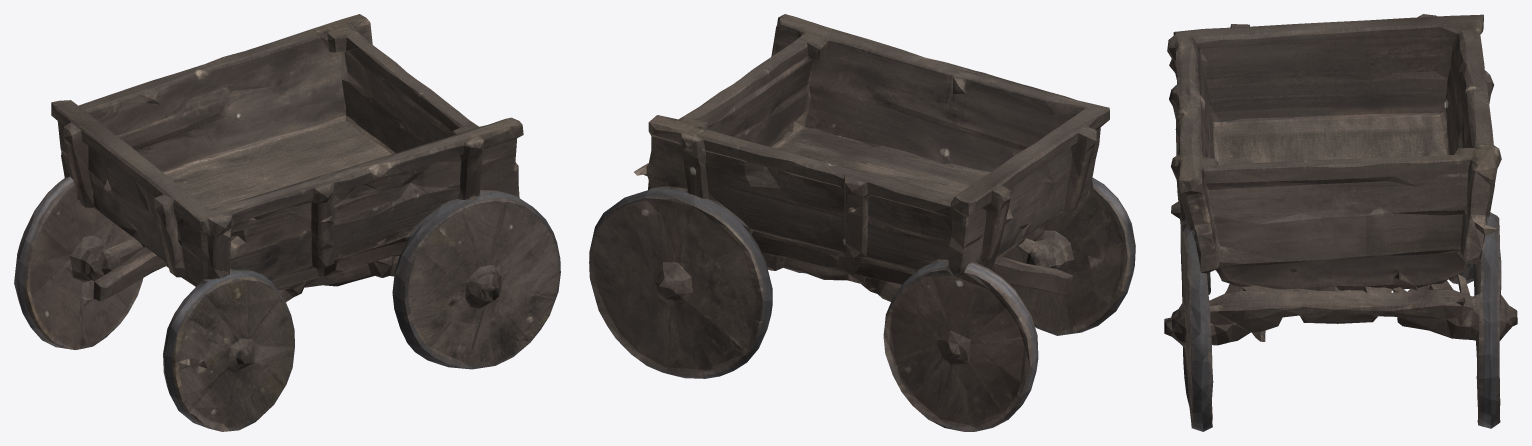
The model's file is cart.fbx.
The picture shows the model from 3 angles, left to right: view 1: azimuth 30°, elevation 25°; view 2: azimuth 150°, elevation 25°; view 3: azimuth 270°, elevation 25°; orthographic projection. The views are drawn at different scales.
Parts seen in each view (by area): view 1: Mesh_0; view 2: Mesh_0; view 3: Mesh_0.
Boxes of the visible parts, x1,y1,x2,y2 form: Mesh_0: (14, 14, 560, 431); Mesh_0: (589, 14, 1135, 431); Mesh_0: (1164, 14, 1517, 431).
Bounding box in the file's own units: 3.21 × 1.8 × 2.18.
Materials: 1 (1 with a texture image).
